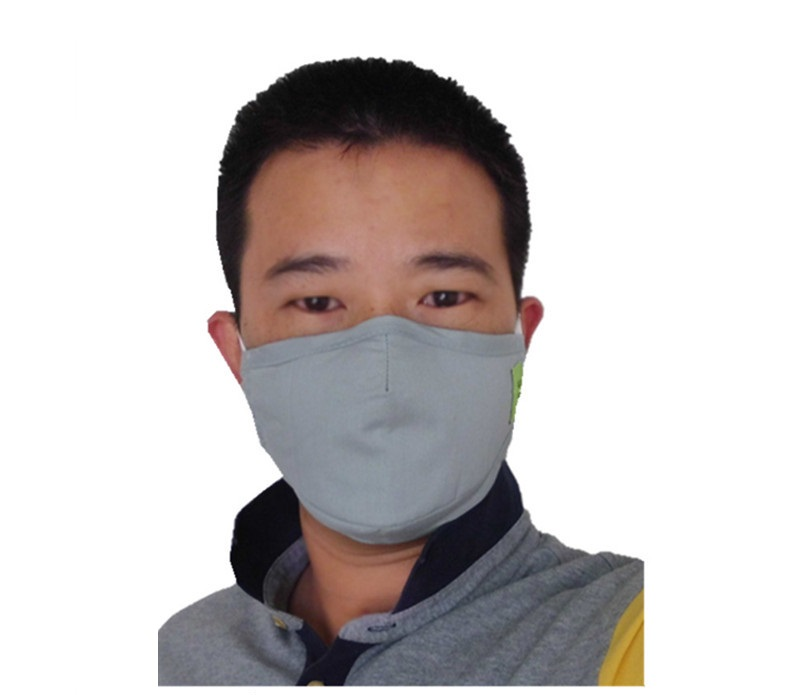face_mask: (238, 169, 523, 546)
